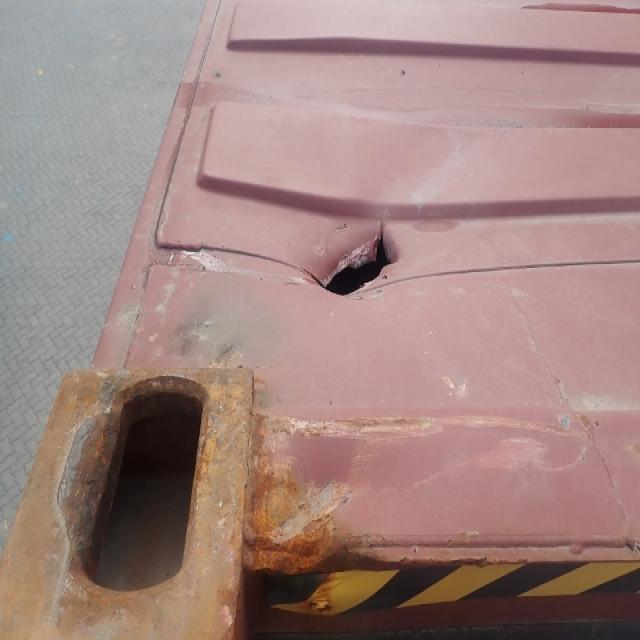hole: (300, 220, 403, 298)
